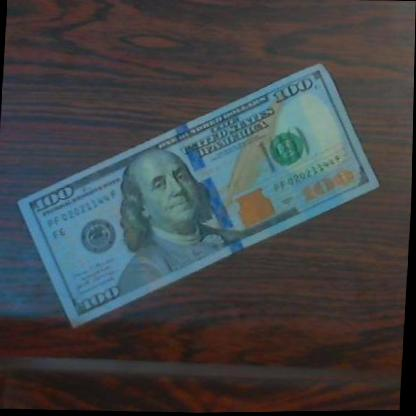one_hundred-front: (12, 50, 391, 343)
